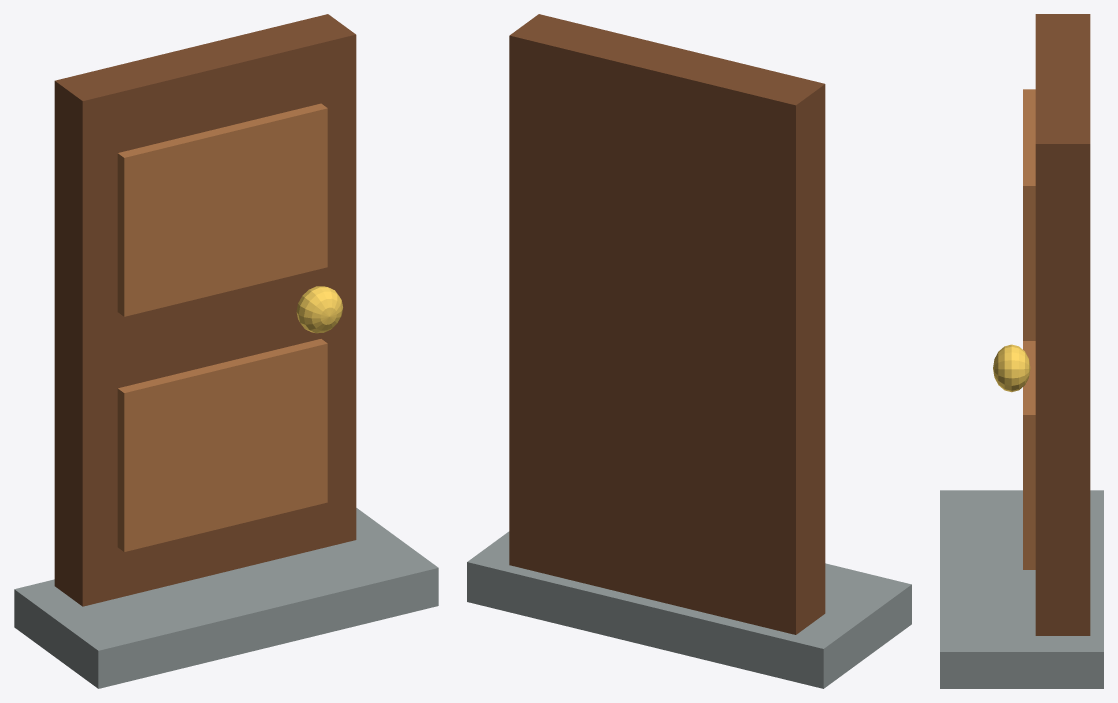
Rendered from bp_decordoor.glb.
3 renders of one model, left to right at view 1: azimuth 30°, elevation 25°; view 2: azimuth 150°, elevation 25°; view 3: azimuth 270°, elevation 25°, orthographic. The views are drawn at different scales.
Parts seen in each view (by area): view 1: Door, Panel.001, Panel, Step, Knob; view 2: Door, Step; view 3: Door, Step, Panel.001, Panel, Knob.
Boxes of the visible parts, x1,y1,x2,y2 form: Door: [54, 14, 356, 606]; Panel.001: [117, 103, 327, 316]; Panel: [117, 339, 327, 551]; Step: [14, 508, 438, 688]; Knob: [296, 286, 342, 333]; Door: [509, 14, 825, 634]; Step: [467, 531, 911, 688]; Door: [1035, 14, 1090, 635]; Step: [940, 490, 1103, 688]; Panel.001: [1023, 89, 1035, 340]; Panel: [1023, 341, 1035, 569]; Knob: [993, 344, 1030, 392].
Bounding box in the file's own units: 1.12 × 1.71 × 0.48.
